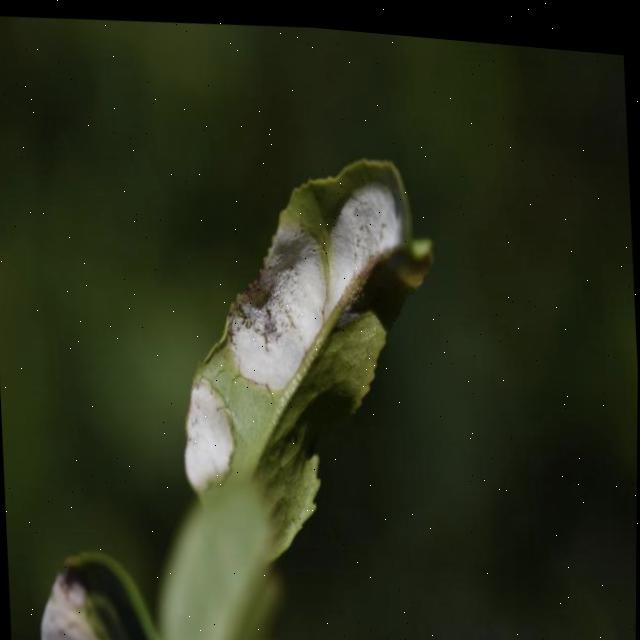Tea cake: (220, 204, 326, 375), (325, 165, 406, 284), (179, 360, 236, 486)
